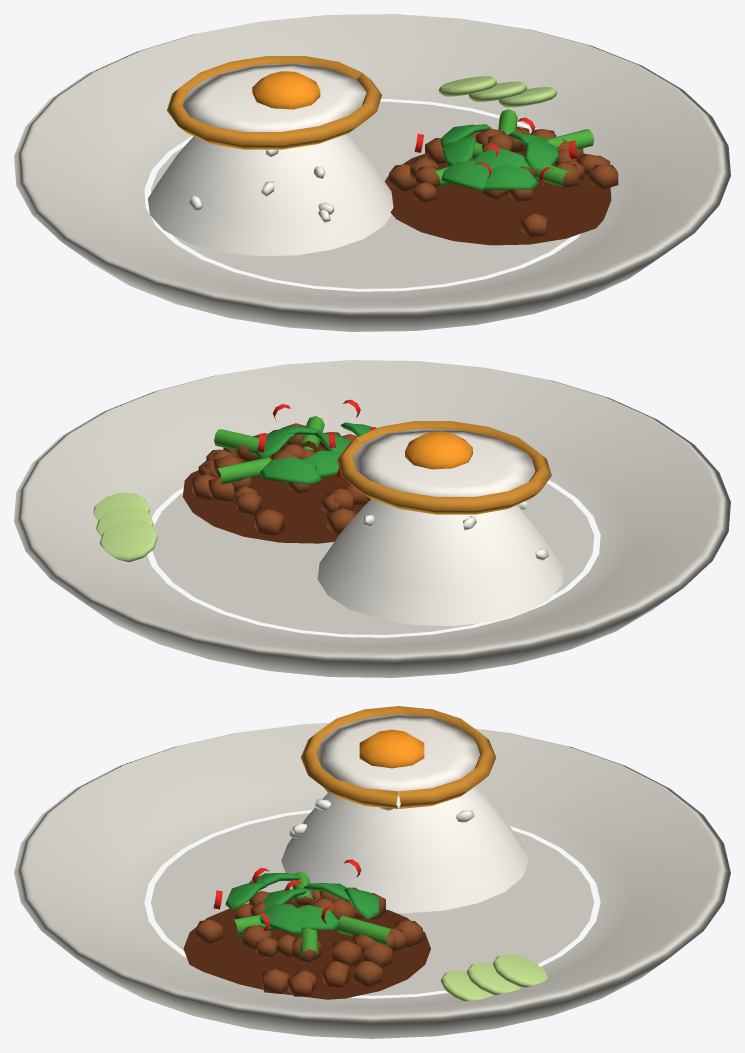
3 views of the same model, one above another, from view 1: azimuth 30°, elevation 25°; view 2: azimuth 150°, elevation 25°; view 3: azimuth 270°, elevation 25° (orthographic).
Parts seen in each view (by area): view 1: plate, rice, plate_well, glaze, egg_white, egg_crisp, basil (×6), cucumber (×3), egg_yolk, minced_pork (×3), green_bean; view 2: plate, rice, plate_well, egg_white, egg_crisp, glaze, cucumber (×3), egg_yolk, basil (×2), minced_pork (×3), green_bean (×2); view 3: plate, plate_well, rice, glaze, egg_white, egg_crisp, cucumber (×3), basil (×4), minced_pork (×5), egg_yolk, green_bean.
Boxes of the visible parts, x1=… form: plate: x1=14, y1=14, x2=730, y2=331; rice: x1=148, y1=134, x2=393, y2=256; plate_well: x1=151, y1=101, x2=570, y2=288; glaze: x1=384, y1=151, x2=611, y2=245; egg_white: x1=182, y1=63, x2=366, y2=131; egg_crisp: x1=167, y1=56, x2=381, y2=149; basil (×6): x1=439, y1=124, x2=559, y2=190; cucumber (×3): x1=438, y1=76, x2=556, y2=107; egg_yolk: x1=252, y1=71, x2=320, y2=109; minced_pork (×3): x1=389, y1=164, x2=618, y2=237; green_bean: x1=547, y1=129, x2=594, y2=149; plate: x1=14, y1=360, x2=730, y2=677; rice: x1=317, y1=499, x2=564, y2=625; plate_well: x1=152, y1=483, x2=593, y2=634; egg_white: x1=353, y1=429, x2=535, y2=496; egg_crisp: x1=336, y1=421, x2=551, y2=514; glaze: x1=182, y1=441, x2=365, y2=543; cucumber (×3): x1=93, y1=492, x2=157, y2=562; egg_yolk: x1=405, y1=431, x2=472, y2=469; basil (×2): x1=259, y1=450, x2=341, y2=484; minced_pork (×3): x1=208, y1=477, x2=357, y2=535; green_bean (×2): x1=214, y1=429, x2=271, y2=485; plate: x1=14, y1=723, x2=730, y2=1038; plate_well: x1=151, y1=813, x2=593, y2=995; rice: x1=281, y1=787, x2=528, y2=913; glaze: x1=183, y1=899, x2=430, y2=999; egg_white: x1=317, y1=714, x2=479, y2=795; egg_crisp: x1=301, y1=706, x2=496, y2=808; cucumber (×3): x1=440, y1=954, x2=548, y2=1001; basil (×4): x1=225, y1=881, x2=379, y2=934; minced_pork (×5): x1=196, y1=919, x2=392, y2=993; egg_yolk: x1=359, y1=729, x2=424, y2=768; green_bean: x1=337, y1=916, x2=393, y2=945.
Size of the model in its own units: 0.22 by 0.0521 by 0.22.
